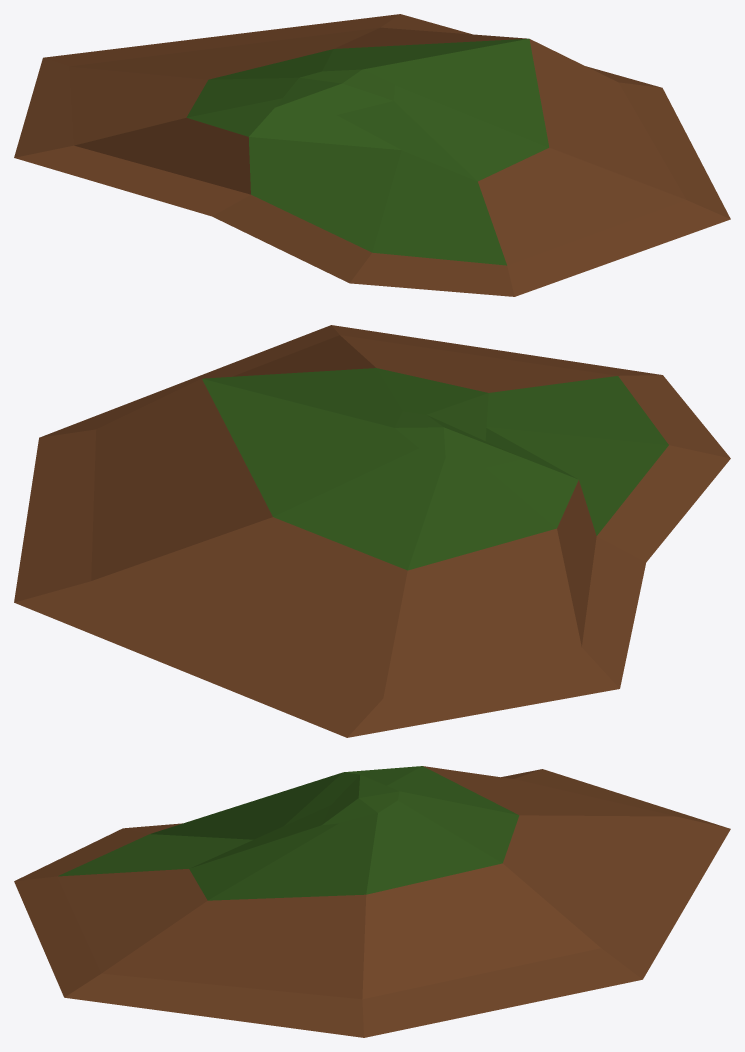
Rendered from MossyRocks004.fbx.
3 renders of one model, top to bottom at view 1: azimuth 30°, elevation 25°; view 2: azimuth 150°, elevation 25°; view 3: azimuth 270°, elevation 25°, orthographic. The views are drawn at different scales.
Visible parts, largest first — view 1: Cube.018; view 2: Cube.018; view 3: Cube.018.
Boxes of the visible parts, box(x1,y1,x2,y2) form: Cube.018: box(14, 14, 730, 296); Cube.018: box(14, 325, 730, 737); Cube.018: box(14, 766, 730, 1037).
Bounding box in the file's own units: 326 × 47.6 × 368.
